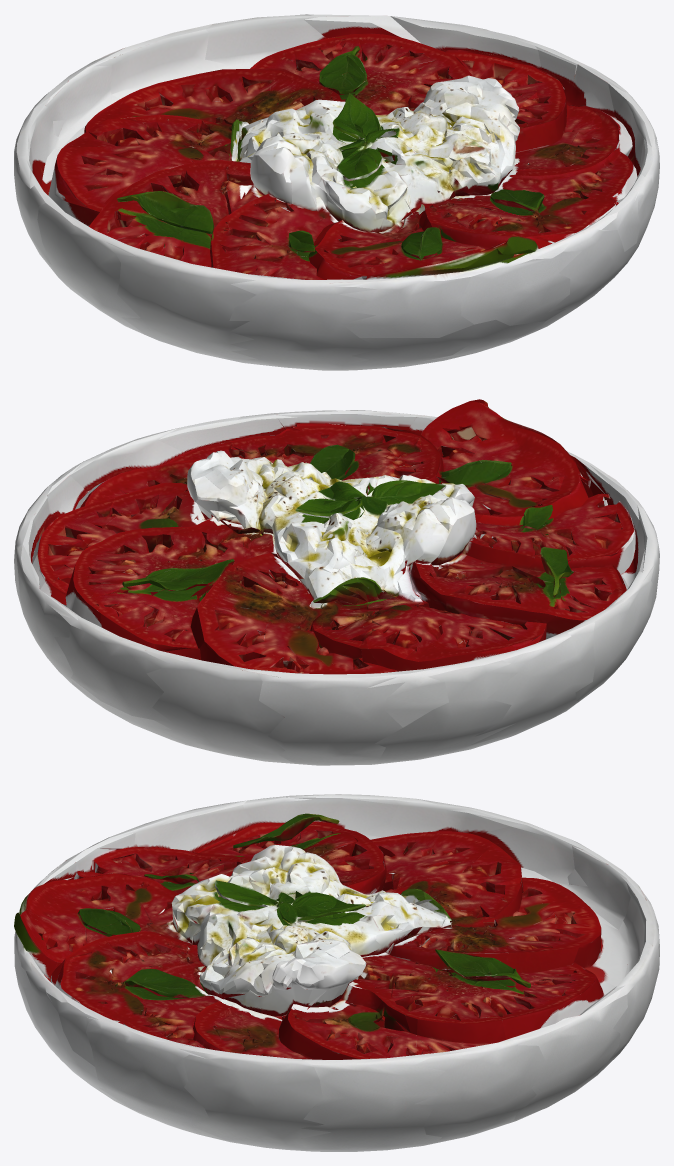
The model's file is burrata.glb.
3 views of the same model, one above another, from view 1: azimuth 30°, elevation 25°; view 2: azimuth 150°, elevation 25°; view 3: azimuth 270°, elevation 25° (orthographic).
Visible parts, largest first — view 1: output_unwrapped; view 2: output_unwrapped; view 3: output_unwrapped.
Boxes of the visible parts, <box> form: output_unwrapped: <box>14,14,659,370</box>; output_unwrapped: <box>14,399,659,765</box>; output_unwrapped: <box>14,794,659,1151</box>.
Bounding box in the file's own units: 1.9 × 0.6028 × 1.9.
Materials: 1 (1 with a texture image).
